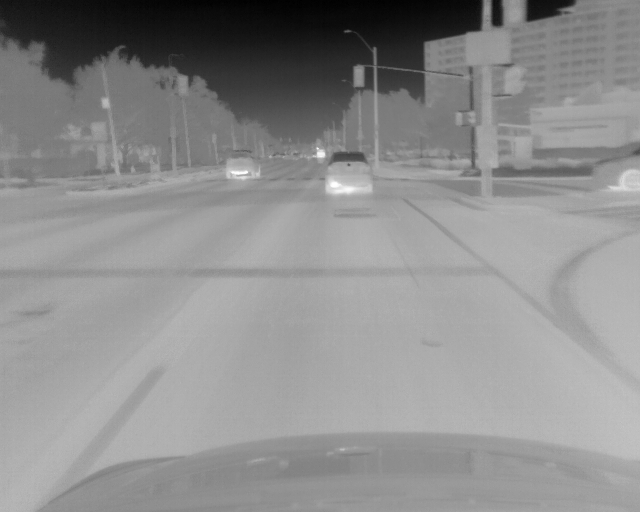car: (590, 146, 640, 195), (326, 150, 373, 193), (225, 149, 261, 180)
